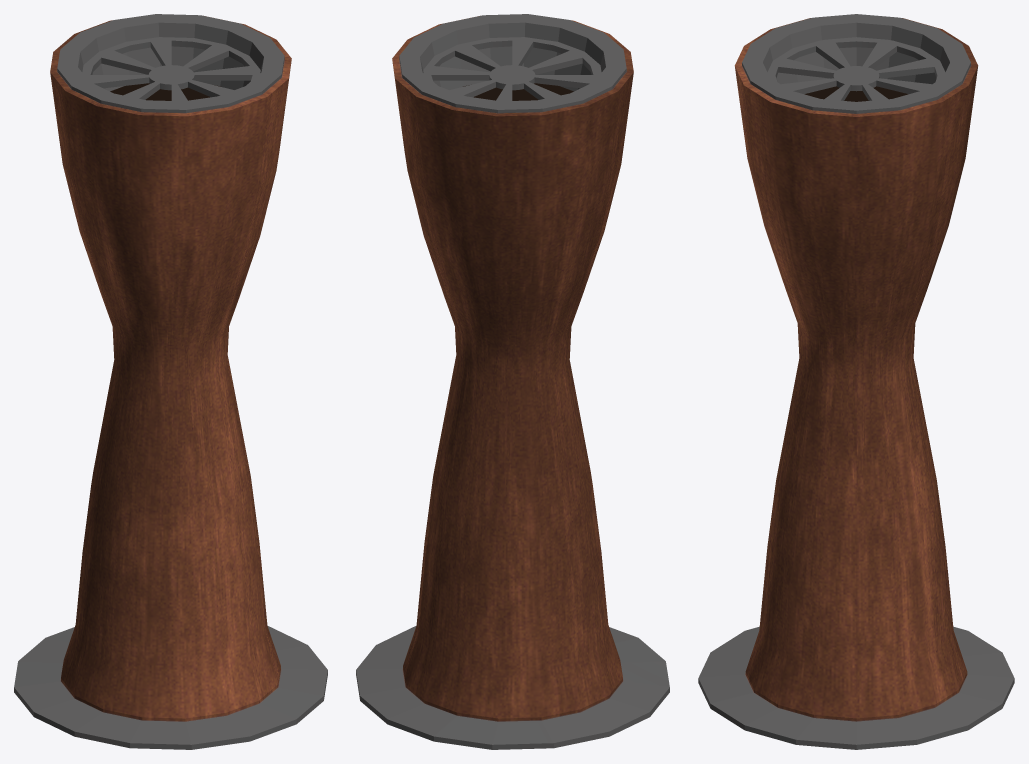
File: SM_Ashtray.fbx
3 views of the same model, side by side, from view 1: azimuth 30°, elevation 25°; view 2: azimuth 150°, elevation 25°; view 3: azimuth 270°, elevation 25° (orthographic).
Visible parts, largest first — view 1: SM_Ashtray; view 2: SM_Ashtray; view 3: SM_Ashtray.
Boxes of the visible parts, left/top/right/bottom form: SM_Ashtray: left=14, top=14, right=327, bottom=749; SM_Ashtray: left=356, top=14, right=669, bottom=749; SM_Ashtray: left=698, top=14, right=1014, bottom=749.
Size of the model in its own units: 29.17 by 29.17 by 63.2.
Materials: 1 (1 with a texture image).
